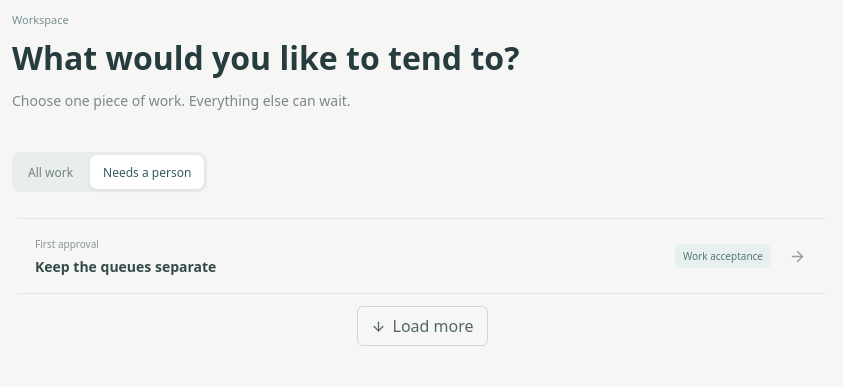
Test: Home WorkItem pagination › loads Human Attention through its own cursor
expect the text "First approval" is shown: met, box [35, 236, 99, 250]
expect the tab "Needs a person" is shown: met, box [90, 155, 204, 189]
Click the button "Load more": x=422, y=326 [356, 306, 488, 346]
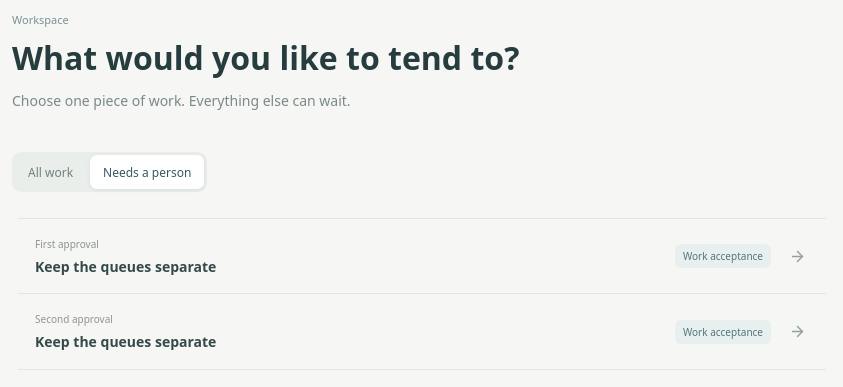
expect the text "Second approval" is shown: met, box [35, 312, 113, 326]
